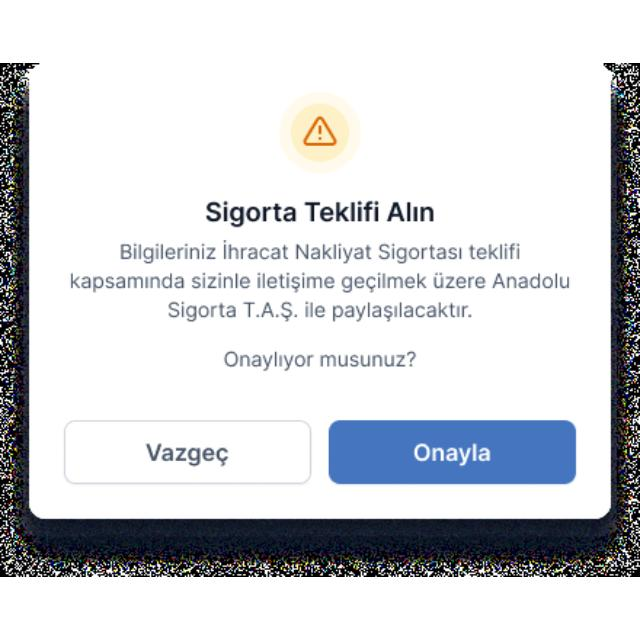QLabel: (68, 272, 574, 294), (114, 240, 528, 264), (167, 299, 477, 323), (202, 200, 436, 228), (220, 349, 416, 371), (144, 442, 232, 468), (412, 440, 492, 466)
VBtn: (327, 419, 577, 487), (64, 420, 314, 486)
VDialog: (27, 73, 615, 523)
VIcon: (280, 93, 360, 175)
